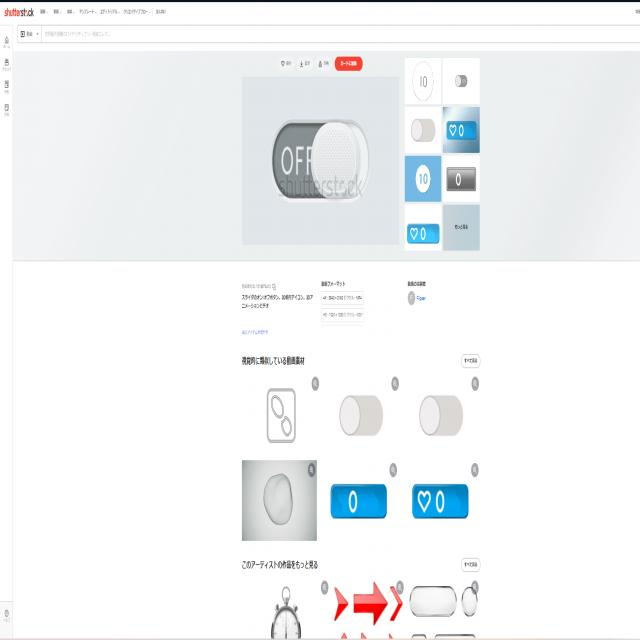toggle: (270, 116, 373, 200), (418, 392, 465, 439), (337, 392, 384, 436), (410, 116, 440, 144), (453, 71, 469, 89)
